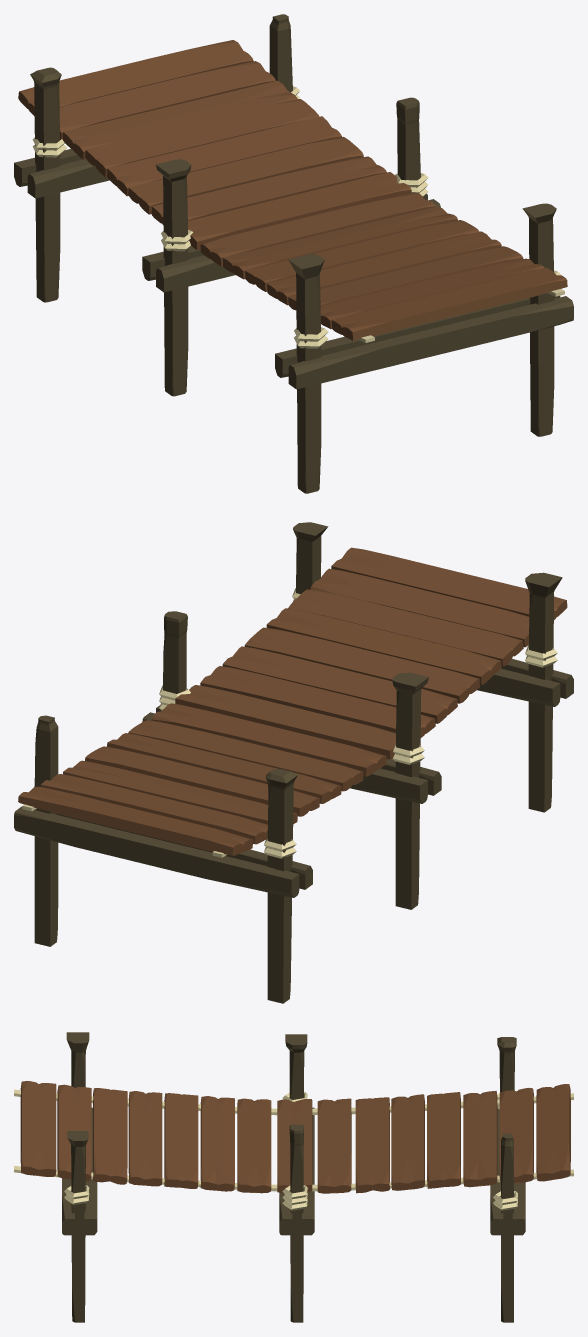
The model's file is platform low poly.fbx.
3 views of the same model, one above another, from view 1: azimuth 30°, elevation 25°; view 2: azimuth 150°, elevation 25°; view 3: azimuth 270°, elevation 25° (orthographic). The views are drawn at different scales.
Visible parts, largest first — view 1: Cube.023, Cube, Cube.009, Cube.019, Cube.017, Cube.020, Cube.018, Cube.016, Cube.015, Cube.011, Cube.021, Cube.013 (+15 smaller); view 2: Cube.028, Cube.002, Cube.003, Cube.001, Cube.020, Cube, Cube.004, Cube.009, Cube.011, Cube.005, Cube.006, Cube.010 (+14 smaller); view 3: Cube, Cube.004, Cube.002, Cube.015, Cube.010, Cube.018, Cube.006, Cube.020, Cube.005, Cube.003, Cube.017, Cube.016 (+17 smaller).
Part boxes in pixels (left/top/right/bottom): Cube.023: left=288, top=296, right=573, bottom=389; Cube: left=331, top=267, right=567, bottom=340; Cube.009: left=188, top=172, right=411, bottom=249; Cube.019: left=59, top=61, right=275, bottom=139; Cube.017: left=85, top=99, right=319, bottom=177; Cube.020: left=18, top=40, right=253, bottom=116; Cube.018: left=63, top=80, right=297, bottom=159; Cube.016: left=107, top=116, right=341, bottom=196; Cube.015: left=128, top=137, right=363, bottom=214; Cube.011: left=288, top=254, right=324, bottom=493; Cube.021: left=155, top=159, right=191, bottom=396; Cube.013: left=30, top=67, right=61, bottom=302; Cube.028: left=14, top=806, right=299, bottom=897; Cube.002: left=288, top=589, right=523, bottom=666; Cube.003: left=266, top=608, right=501, bottom=684; Cube.001: left=310, top=568, right=529, bottom=647; Cube.020: left=18, top=786, right=253, bottom=855; Cube: left=331, top=547, right=567, bottom=619; Cube.004: left=244, top=627, right=479, bottom=703; Cube.009: left=175, top=685, right=395, bottom=759; Cube.011: left=525, top=572, right=562, bottom=812; Cube.005: left=222, top=646, right=457, bottom=723; Cube.006: left=200, top=666, right=435, bottom=737; Cube.010: left=151, top=703, right=386, bottom=776; Cube: left=20, top=1081, right=56, bottom=1176; Cube.004: left=164, top=1093, right=198, bottom=1188; Cube.002: left=93, top=1088, right=127, bottom=1184; Cube.015: left=355, top=1097, right=389, bottom=1193; Cube.010: left=317, top=1098, right=351, bottom=1193; Cube.018: left=463, top=1090, right=497, bottom=1187; Cube.006: left=237, top=1098, right=271, bottom=1193; Cube.020: left=536, top=1084, right=570, bottom=1181; Cube.005: left=200, top=1096, right=234, bottom=1191; Cube.003: left=128, top=1091, right=162, bottom=1186; Cube.017: left=427, top=1092, right=460, bottom=1188; Cube.016: left=391, top=1094, right=424, bottom=1190.
Bounding box in the file's own units: 670 × 539 × 1426.
